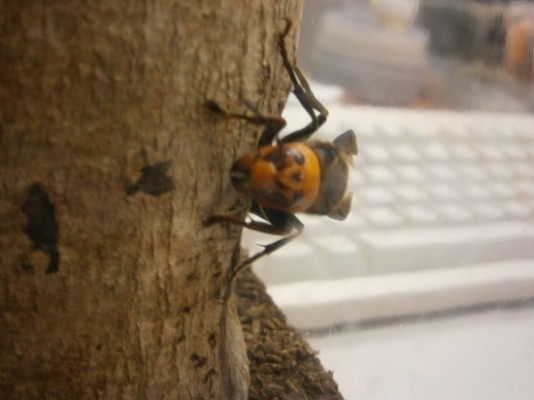asian_giant_hornet: (209, 98, 359, 240)
